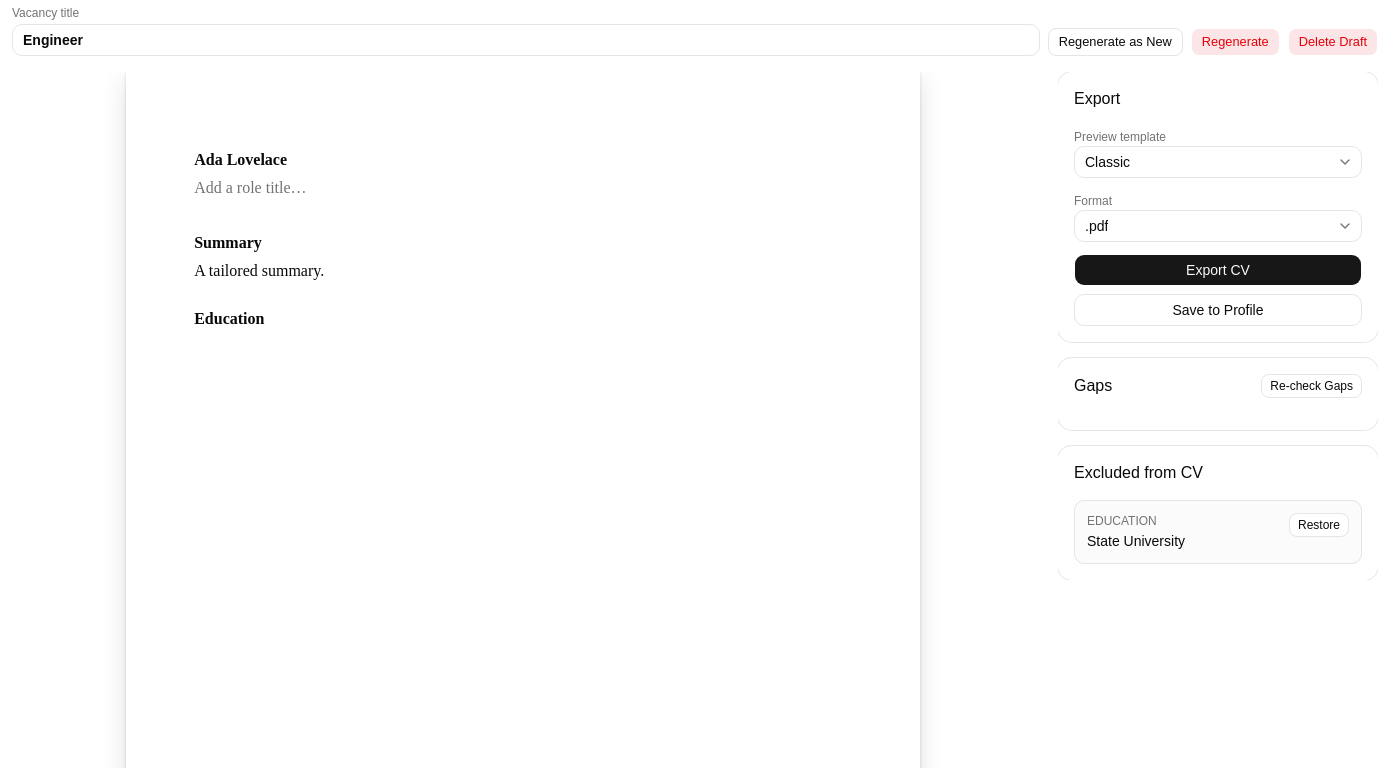
Scenario: DraftScreen › clicking Restore in the Excluded from CV panel brings the item back into the document
This screenshot has width=1390, height=768.
Expected: the text box "A tailored summary." is shown, [194,262,324,279]
Expected: the text "State University" is shown, [1087,531,1185,551]
Click the button "Restore" at point(1319, 525), box [1289,513,1349,537]
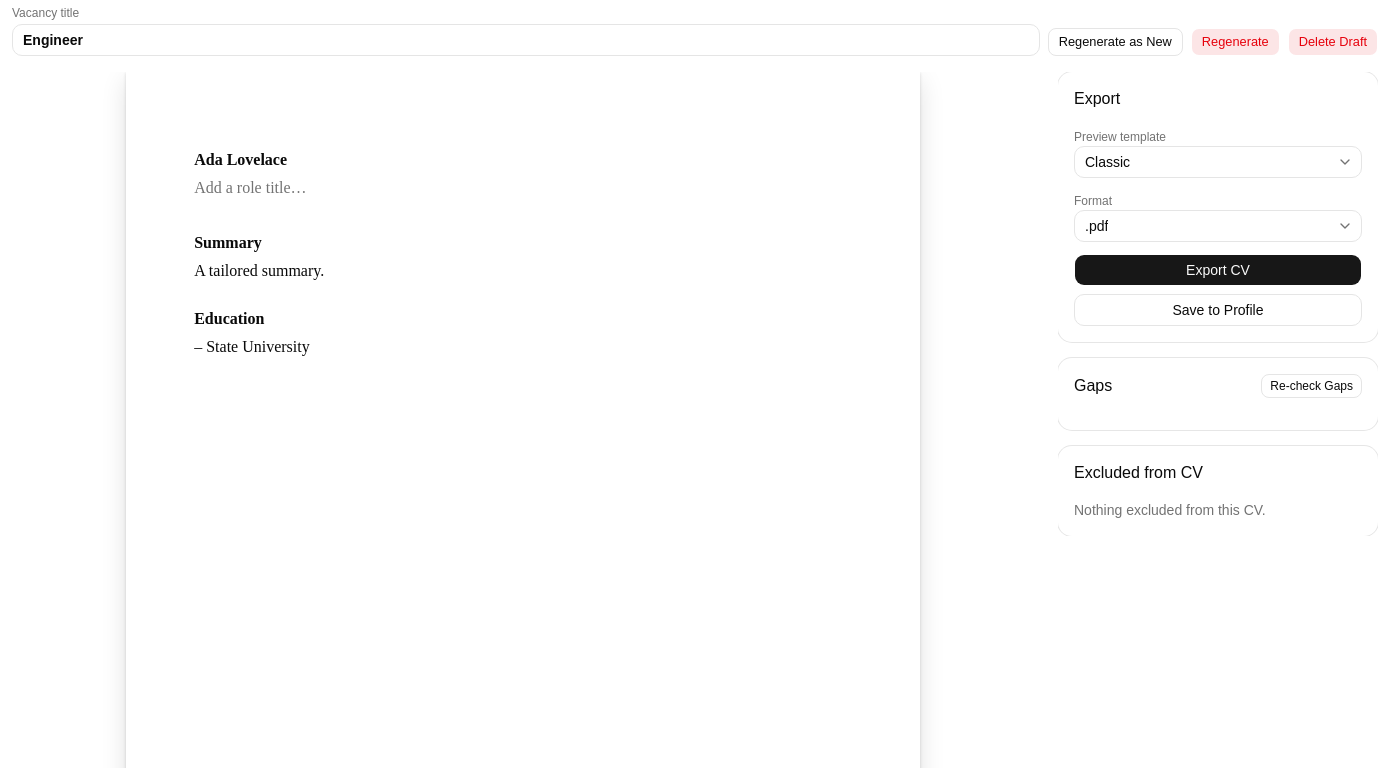
Expected: the text "Nothing excluded from this CV." is shown, [1074,502,1266,518]
